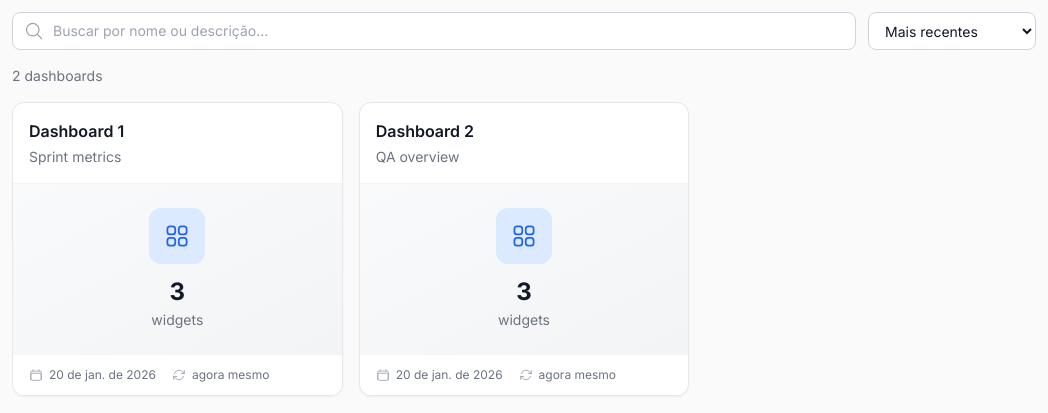
Test: DashboardList › Search › should filter dashboards by description
Type "QA" into the field with placeholder "Buscar por nome ou descrição..." at point(434, 31), box [12,12,856,50]
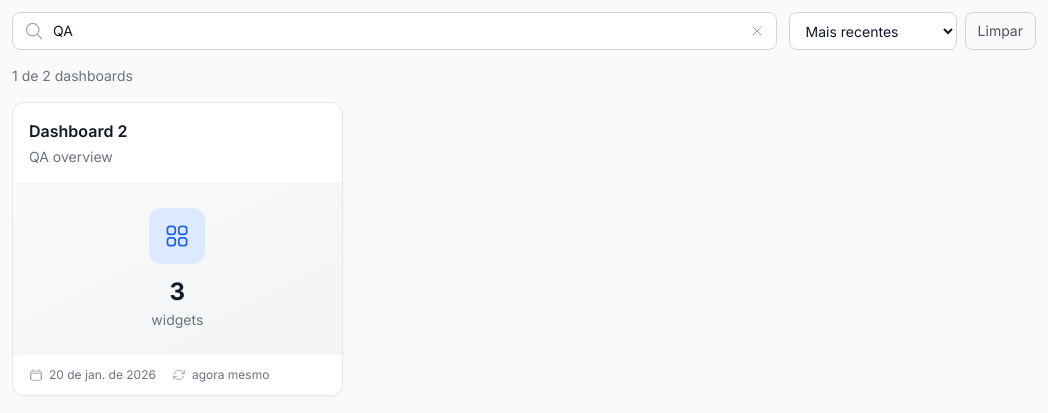
Expected: the heading "Dashboard 2" is shown, [29,121,127,141]
Now the heading "Dashboard 1" is gone
